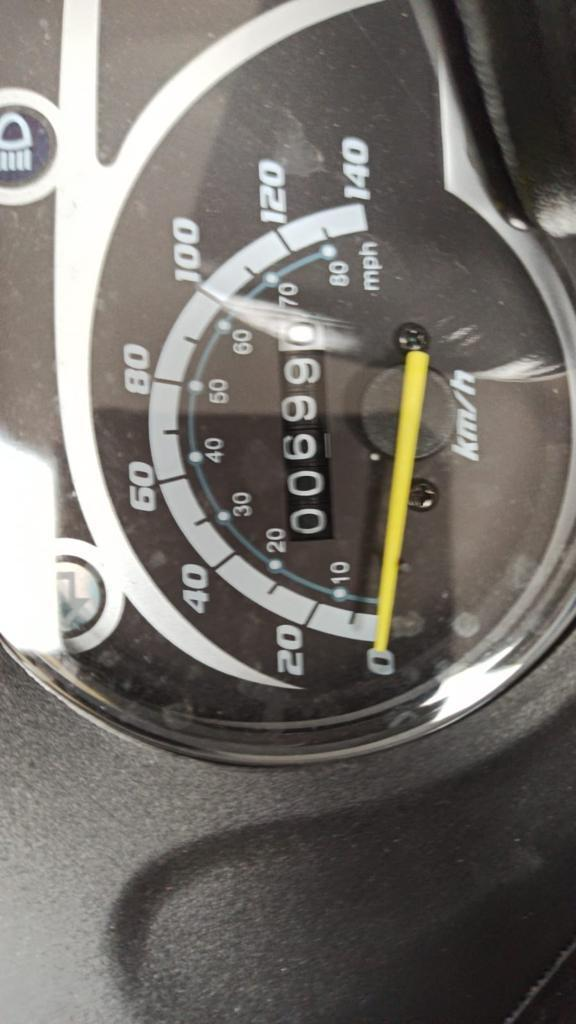0: (284, 467, 325, 498), (286, 505, 327, 535), (281, 318, 319, 347), (271, 526, 286, 542)
6: (280, 431, 317, 461)
9: (281, 354, 324, 386), (278, 392, 318, 423)
odometer: (271, 306, 340, 545)
